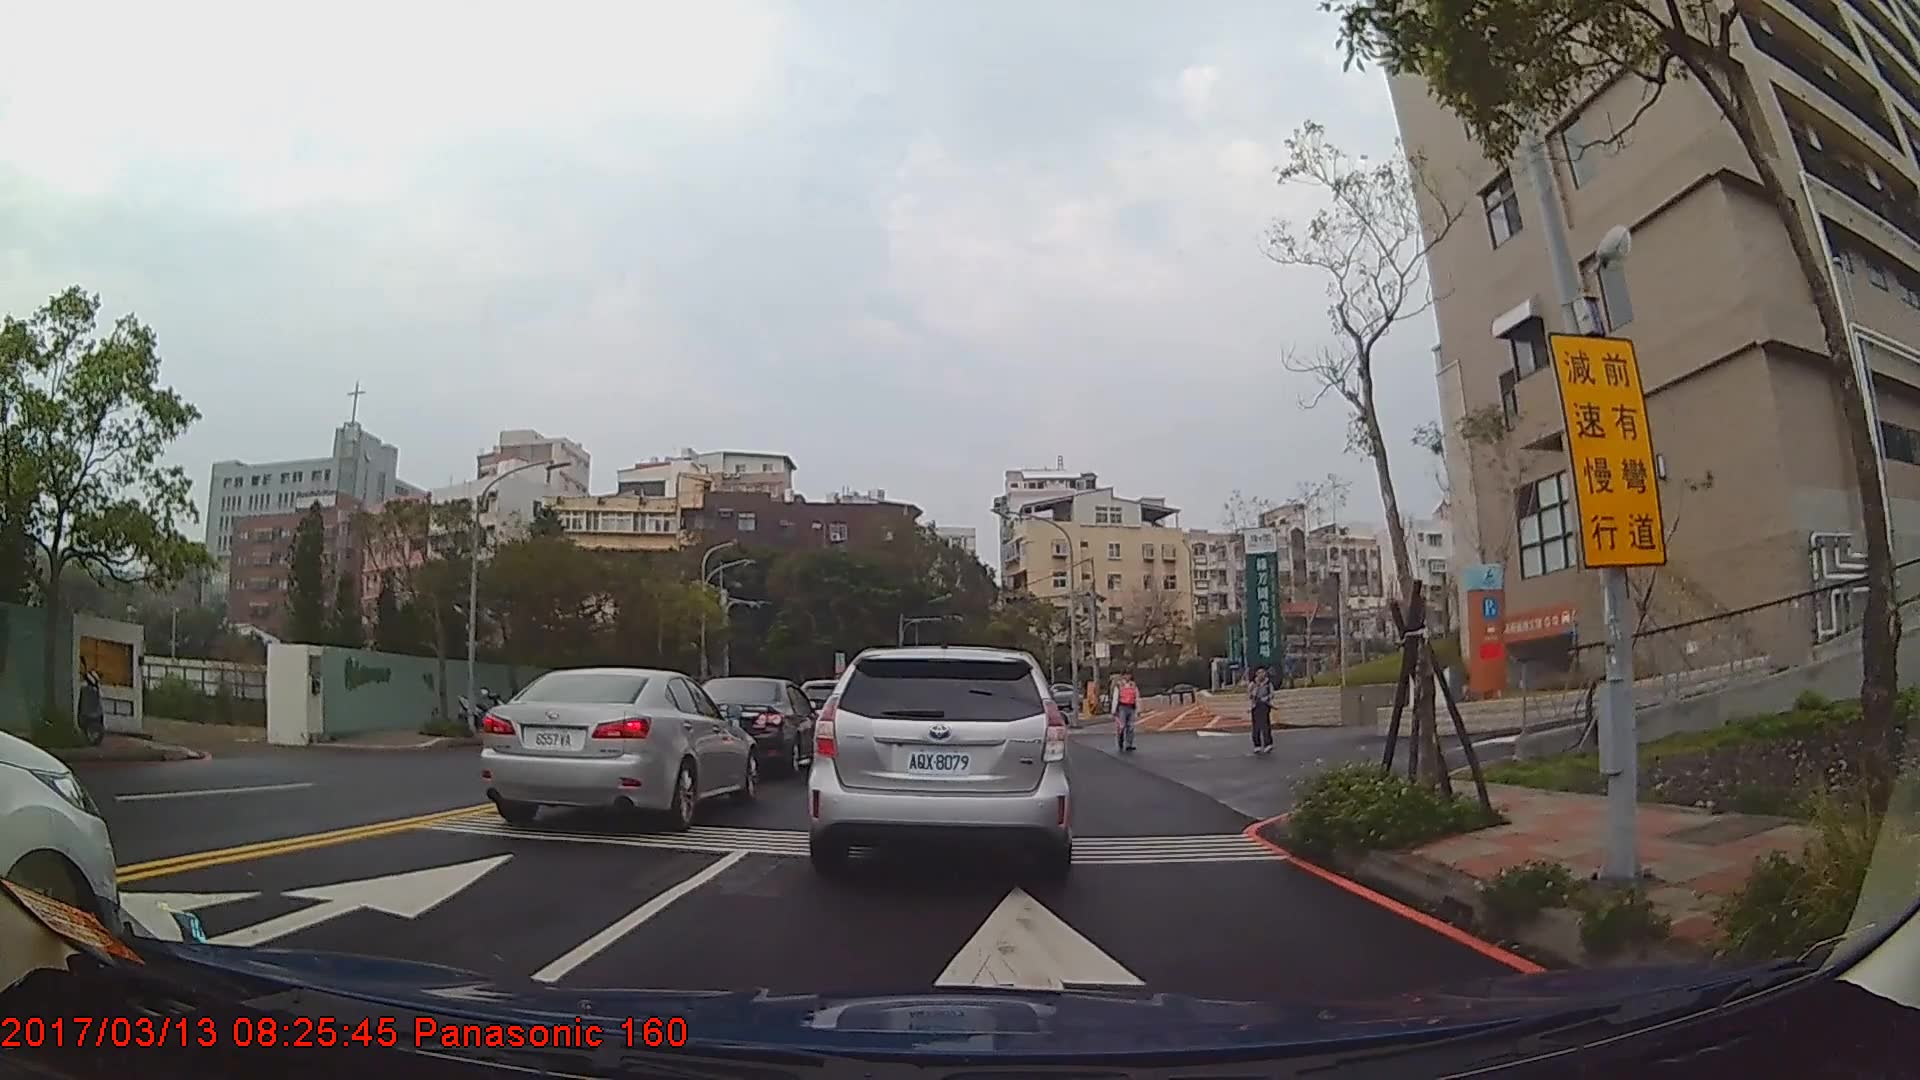pedestrian: (1110, 670, 1142, 756), (1248, 668, 1275, 758)
vehicle: (806, 645, 1073, 878), (479, 666, 756, 830), (686, 676, 820, 779)
